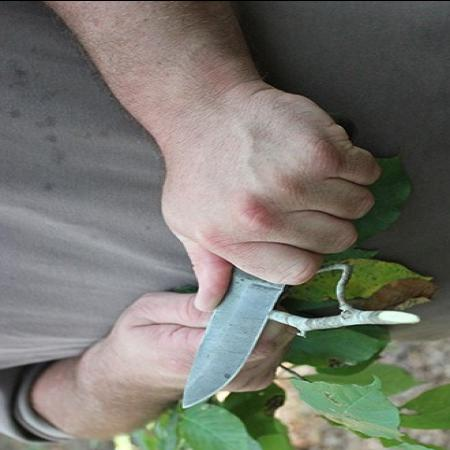long weapon: (176, 180, 376, 412)
